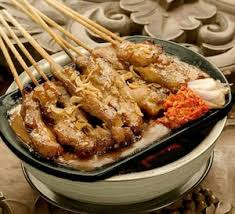sate: (14, 23, 228, 173)
